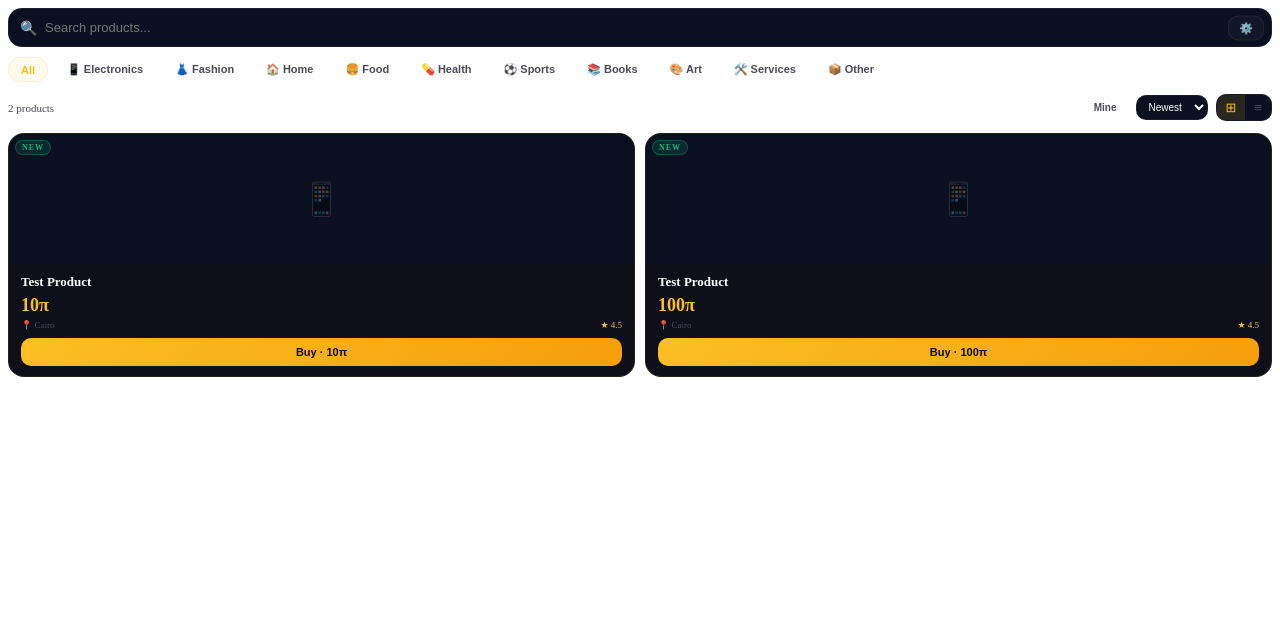
Test: ProductsTab › بيفلتر بـ max price
Click the button with test id "filter-toggle" at point(1246, 28), box [1228, 15, 1264, 40]
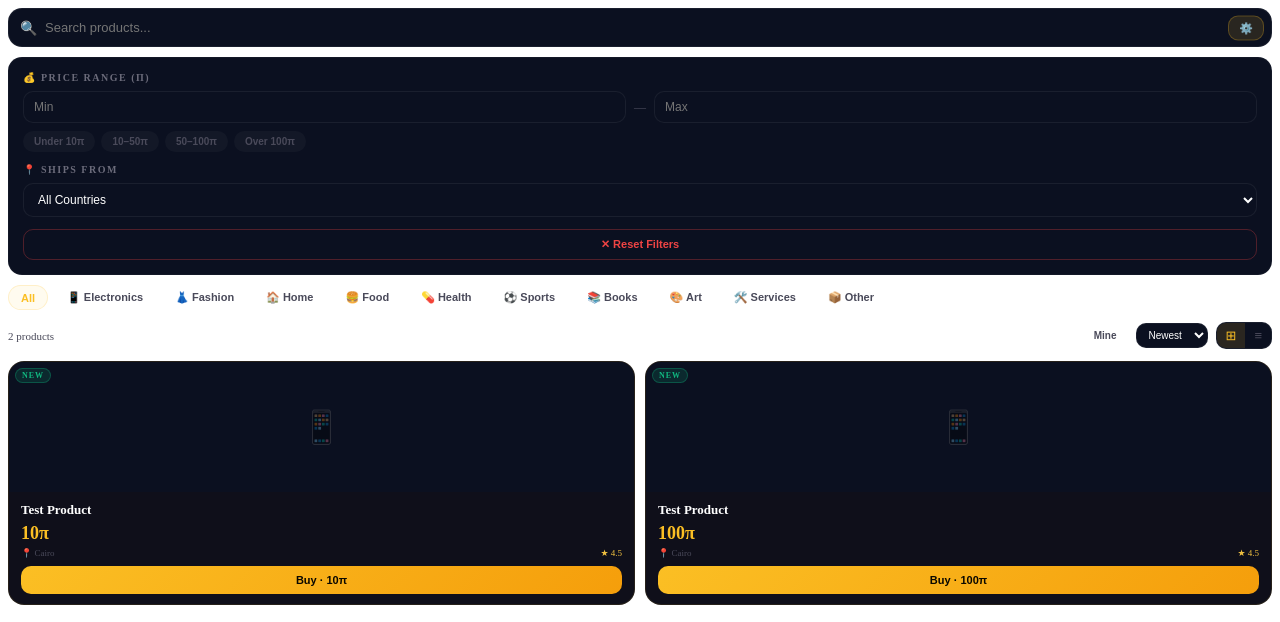
Type "50" into the number field with placeholder "Max" at point(956, 107), box [654, 91, 1257, 123]
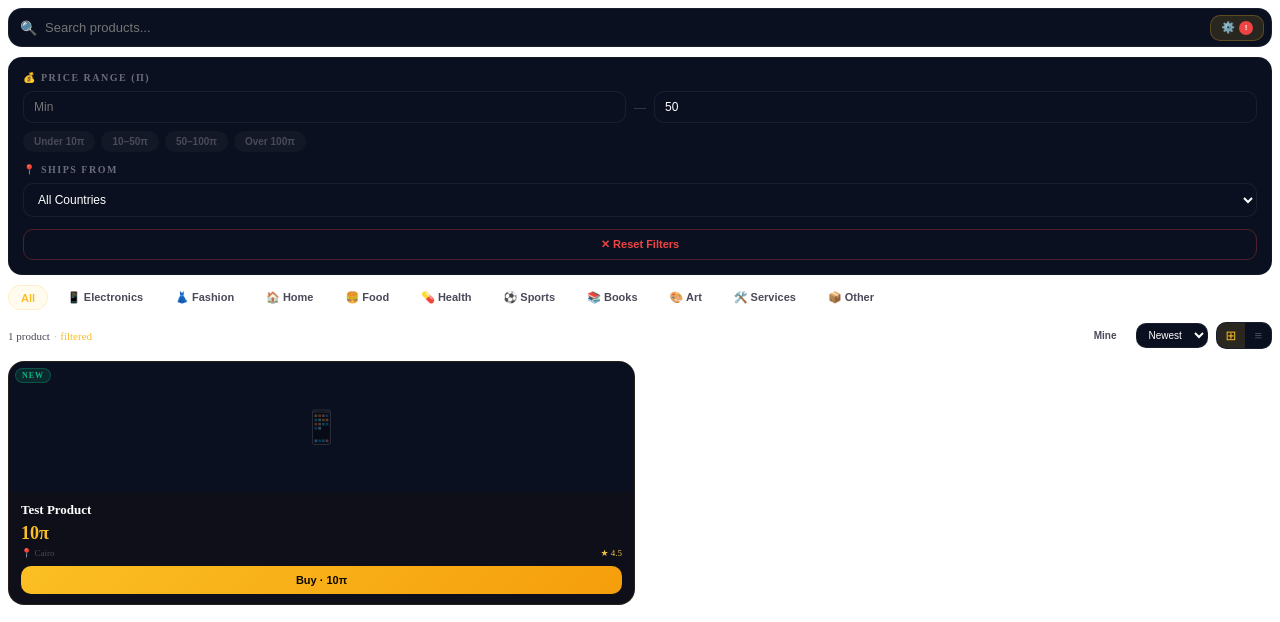
Expected: the element with test id "card-p1" is shown, [8, 361, 635, 605]
Expected: the element with test id "card-p2" is gone
